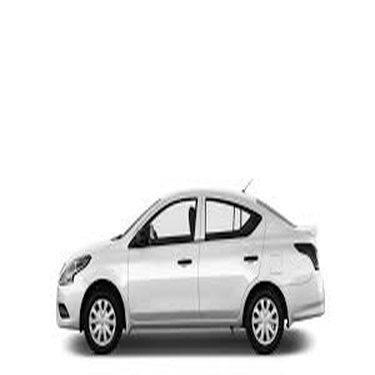car: (46, 177, 326, 356)
